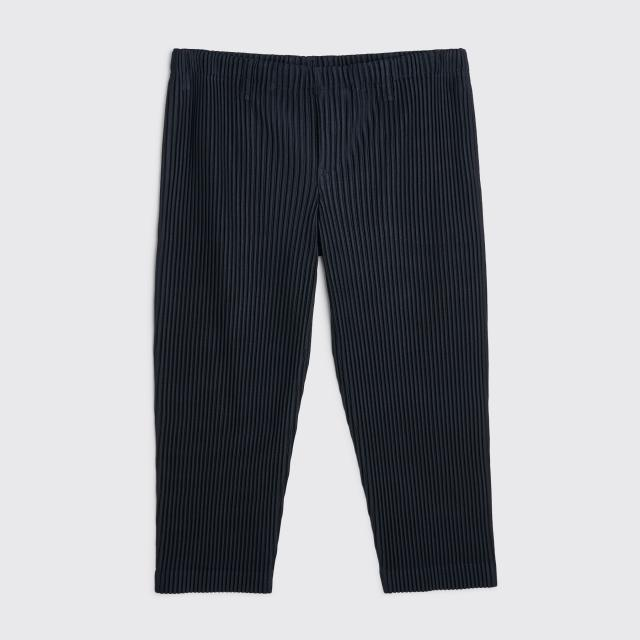long-pants: (153, 49, 500, 597)
